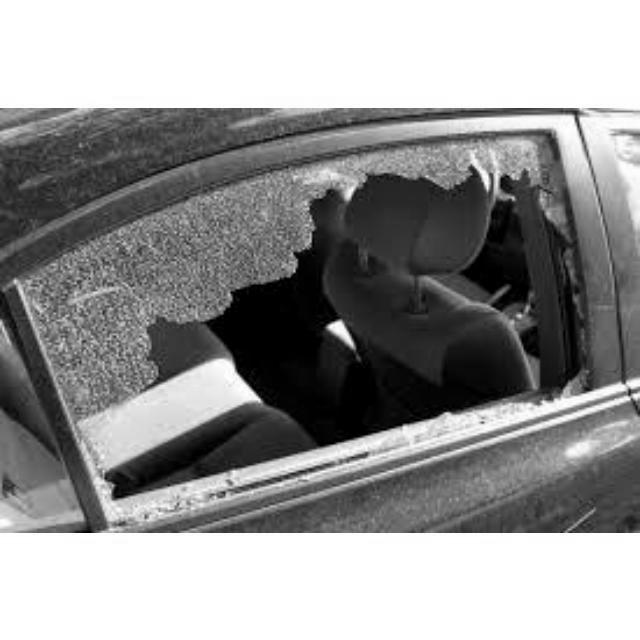doorouter-dent: (95, 114, 593, 530)
